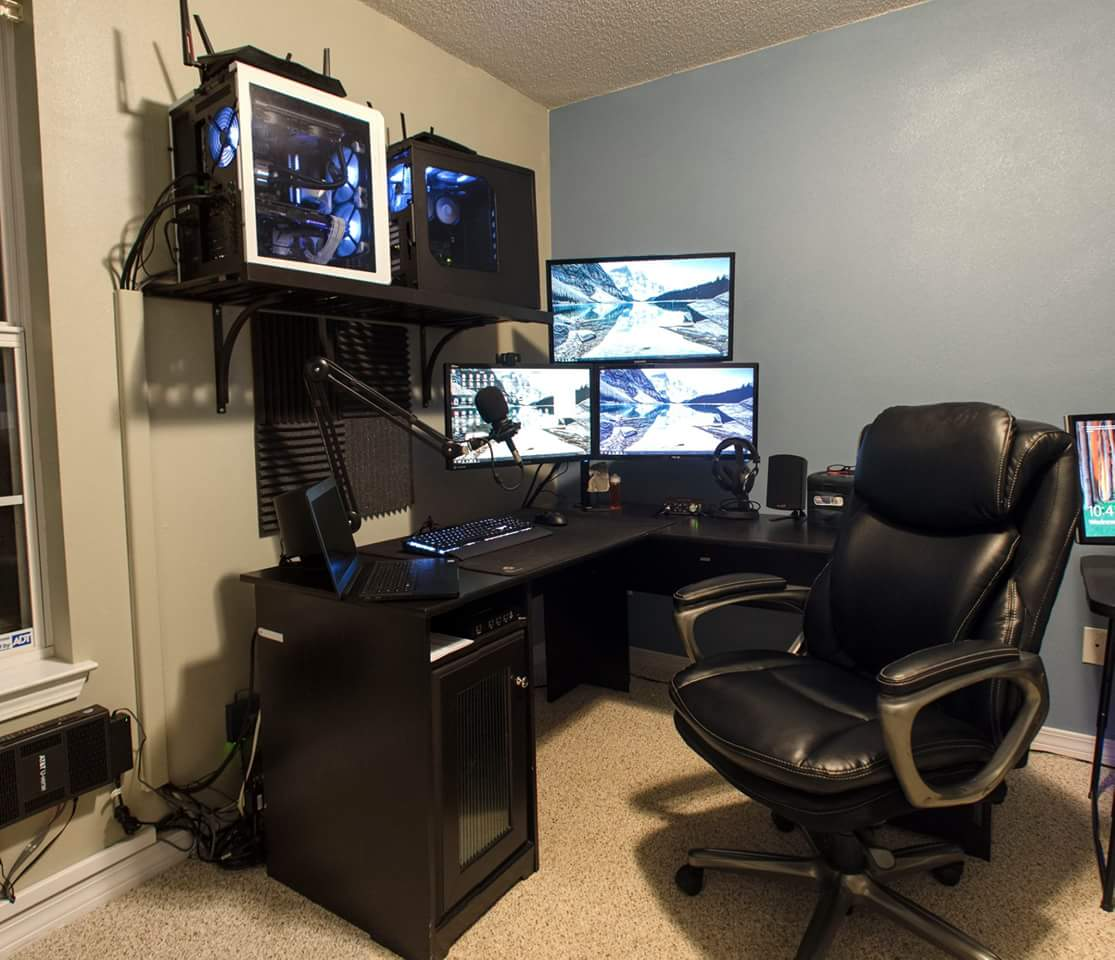Acoustic Foam: (256, 318, 410, 542)
Chair (Generic): (669, 398, 1084, 954)
Desk (Generic): (245, 494, 983, 945)
Desktop (Windows): (170, 69, 386, 283), (383, 139, 540, 313)
External Microphone (with Boom Arm): (298, 352, 516, 538)
External Speakers (Generic): (767, 450, 807, 524)
Headphones: (706, 436, 765, 514)
Keyboard (Gaming): (404, 505, 552, 566)
Laptop (Generic): (302, 474, 464, 606)
Monitor (Landscape): (543, 253, 734, 361), (439, 361, 599, 462), (595, 358, 756, 458)
Mouse (Generic): (531, 509, 566, 531)
Mousepad (Generic): (373, 507, 652, 575)
Router: (177, 1, 354, 89), (362, 103, 489, 151)
Storage Drawer: (423, 628, 540, 918)
